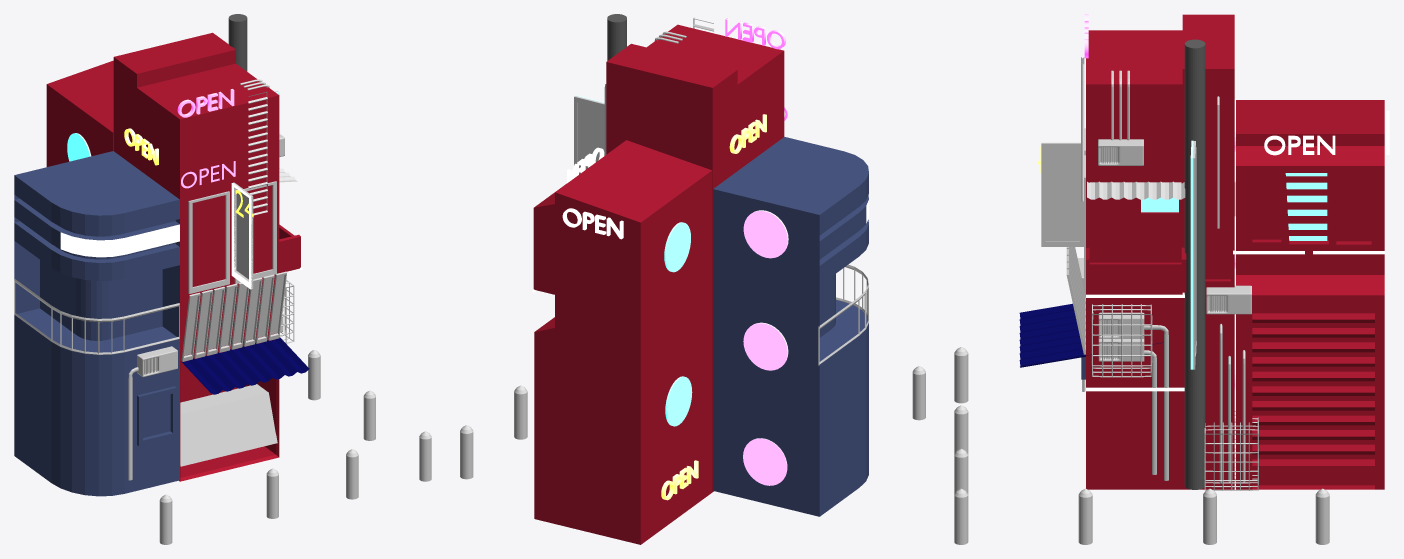
The model's file is dexlingMultiRB_2.glb.
The picture shows the model from 3 angles, left to right: view 1: azimuth 30°, elevation 25°; view 2: azimuth 150°, elevation 25°; view 3: azimuth 270°, elevation 25°; orthographic projection. The views are drawn at different scales.
Visible parts, largest first — view 1: Cube.207, Cube.206, Cube.217, Cube.208, Plane.085, Cube.238, Cube.218, Plane.096, Plane.095, Plane.099, Cube.209, Cylinder.446 (+20 smaller); view 2: Cube.208, Cube.207, Cube.206, Plane.097, Cylinder.453, Cylinder.452, Cylinder.490, Cube.218, Cylinder.491, Cylinder.492, Text.025, Cylinder.446 (+6 smaller); view 3: Cube.208, Cube.206, Cylinder.446, Plane.096, Plane.085, Cube.215, Cube.214, Plane.098, Cube.216, Cube.219, Cube.213, Cube.212 (+15 smaller).
Part boxes in pixels (x1,y1,x2,y2): Cube.207: [14, 151, 179, 496]; Cube.206: [113, 32, 300, 481]; Cube.217: [180, 384, 277, 466]; Cube.208: [46, 60, 113, 166]; Plane.085: [181, 337, 309, 394]; Cube.238: [60, 224, 179, 257]; Cube.218: [14, 279, 179, 354]; Plane.096: [234, 182, 253, 288]; Plane.095: [188, 191, 229, 293]; Plane.099: [248, 91, 267, 215]; Cube.209: [137, 346, 177, 377]; Cylinder.446: [228, 14, 247, 71]; Cube.208: [533, 140, 712, 544]; Cube.207: [713, 137, 868, 516]; Cube.206: [606, 24, 784, 492]; Plane.097: [574, 96, 604, 174]; Cylinder.453: [743, 210, 788, 258]; Cylinder.452: [743, 322, 788, 370]; Cylinder.490: [743, 438, 787, 485]; Cube.218: [818, 264, 868, 365]; Cylinder.491: [664, 222, 690, 272]; Cylinder.492: [665, 376, 692, 426]; Text.025: [562, 208, 623, 239]; Cylinder.446: [607, 14, 626, 60]; Cube.208: [1236, 100, 1384, 489]; Cube.206: [1086, 14, 1234, 489]; Cylinder.446: [1184, 39, 1205, 489]; Plane.096: [1041, 142, 1083, 246]; Plane.085: [1019, 303, 1162, 367]; Cube.215: [1091, 304, 1152, 377]; Cube.214: [1204, 410, 1258, 490]; Plane.098: [1087, 181, 1185, 199]; Cube.216: [1206, 285, 1251, 314]; Cube.219: [1098, 139, 1143, 165]; Cube.213: [1098, 312, 1144, 338]; Cube.212: [1098, 338, 1144, 361].
Size of what is drawn, in the model's own units: 7.32 by 9.62 by 8.38.
